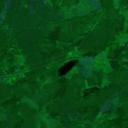alloviz: (56, 58, 78, 76)
